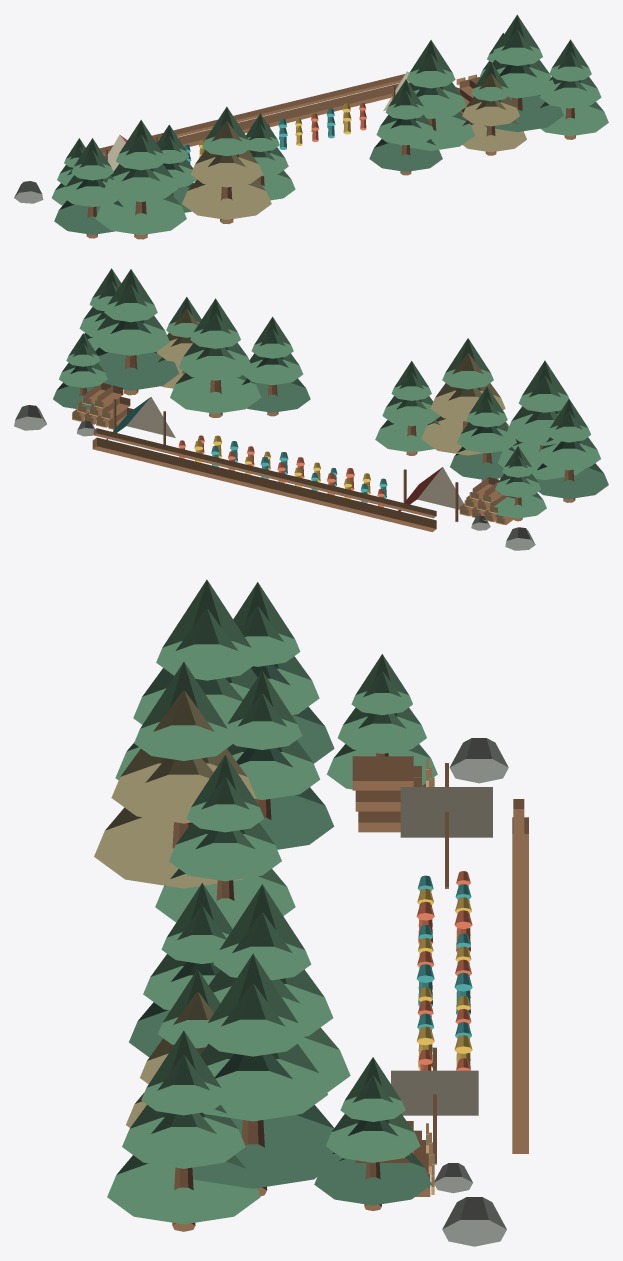
Rendered from turboHairpinVenueKit.glb.
The picture shows the model from 3 angles, top to bottom: view 1: azimuth 30°, elevation 25°; view 2: azimuth 150°, elevation 25°; view 3: azimuth 270°, elevation 25°; orthographic projection. The views are drawn at different scales.
Visible parts, largest first — view 1: Turbo Hairpin Festival Kit; view 2: Turbo Hairpin Festival Kit; view 3: Turbo Hairpin Festival Kit.
Part boxes in pixels (x1,y1,x2,y2): Turbo Hairpin Festival Kit: [14, 14, 608, 239]; Turbo Hairpin Festival Kit: [14, 268, 608, 550]; Turbo Hairpin Festival Kit: [94, 579, 528, 1246].
Bounding box in the file's own units: 13.14 × 2.87 × 4.71.
